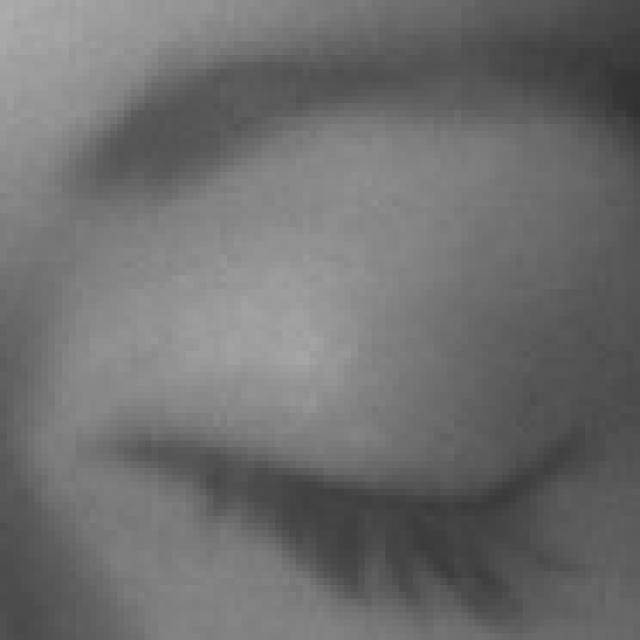Eyeclosed: (121, 221, 595, 640)
